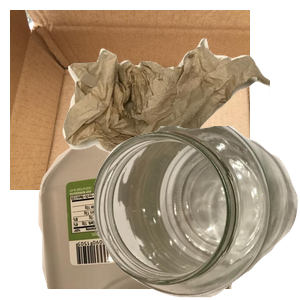cardboard: (10, 10, 250, 190)
glass: (94, 126, 300, 300)
plastic: (36, 120, 265, 300)
trash: (60, 36, 300, 198)
